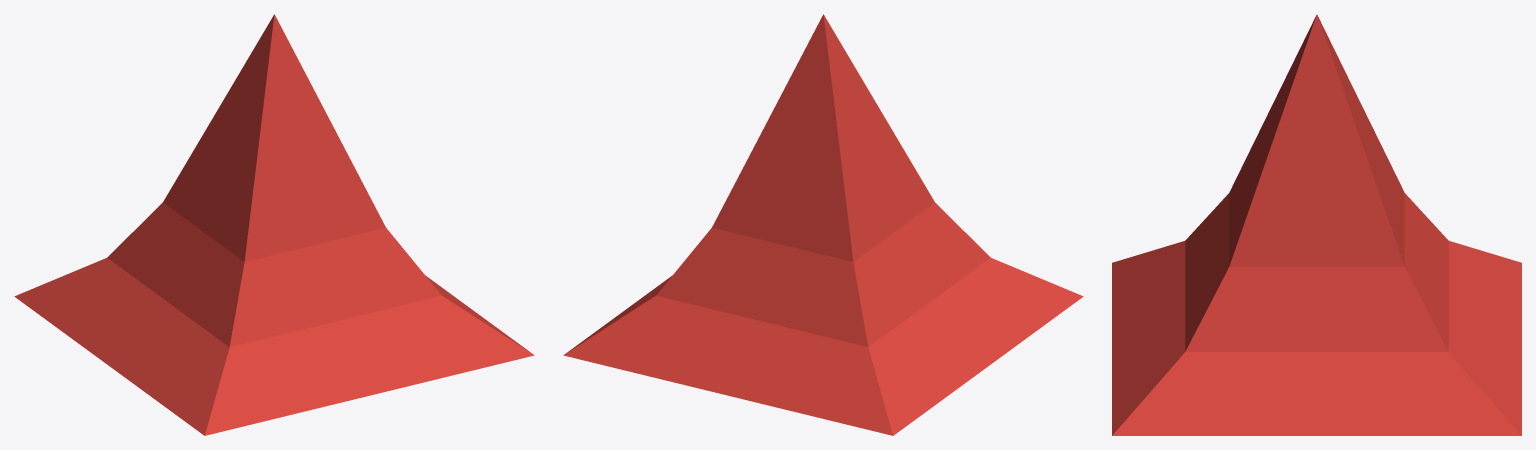
File: TowerRoof.fbx
The picture shows the model from 3 angles, left to right: view 1: azimuth 30°, elevation 25°; view 2: azimuth 150°, elevation 25°; view 3: azimuth 270°, elevation 25°; orthographic projection. The views are drawn at different scales.
Parts seen in each view (by area): view 1: TowerRoof; view 2: TowerRoof; view 3: TowerRoof.
Part boxes in pixels (x1,y1,x2,y2): TowerRoof: (14, 14, 534, 435); TowerRoof: (563, 14, 1083, 435); TowerRoof: (1112, 14, 1521, 435).
Size of the model in its own units: 280 by 253 by 280.
